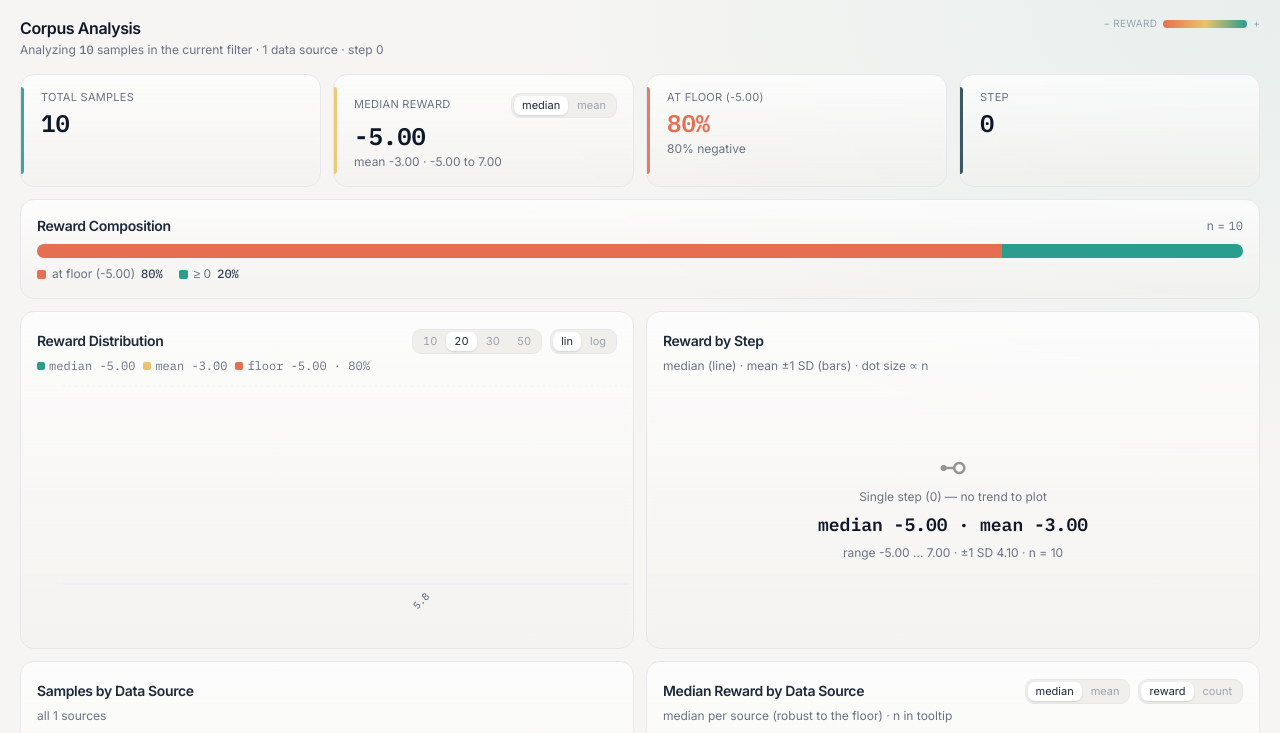
Test: AnalysisView › has independent per-surface median/mean toggles
Expected: the text "Median Reward" is shown, [354,98,450,111]
Expected: the heading "Median Reward by Data Source" is shown, [663,681,864,701]
Note: flip ONLY the KPI tile → chart stays median
Click the button titled "Mean summary" in the row of "Total Samples". click: point(592, 106)
box: [569,96,614,115]
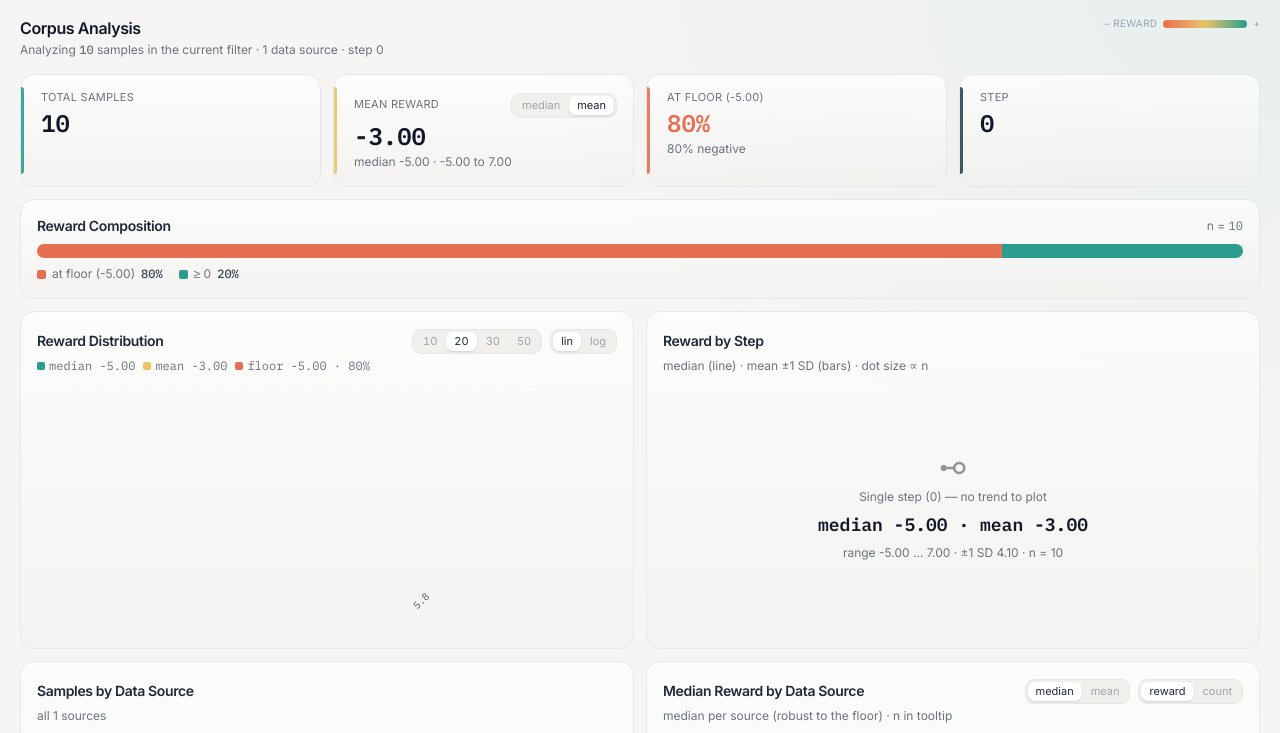
Expected: the heading "Median Reward by Data Source" is shown, [663,681,864,701]
Now the text "Mean Reward" is shown, box [354,98,439,111]
Note: flip ONLY the chart → tile keeps its own state
Click the button titled "Mean per source" in the row of "Median Reward by Data Source". click: point(1105, 691)
box: [1083,682,1127,700]
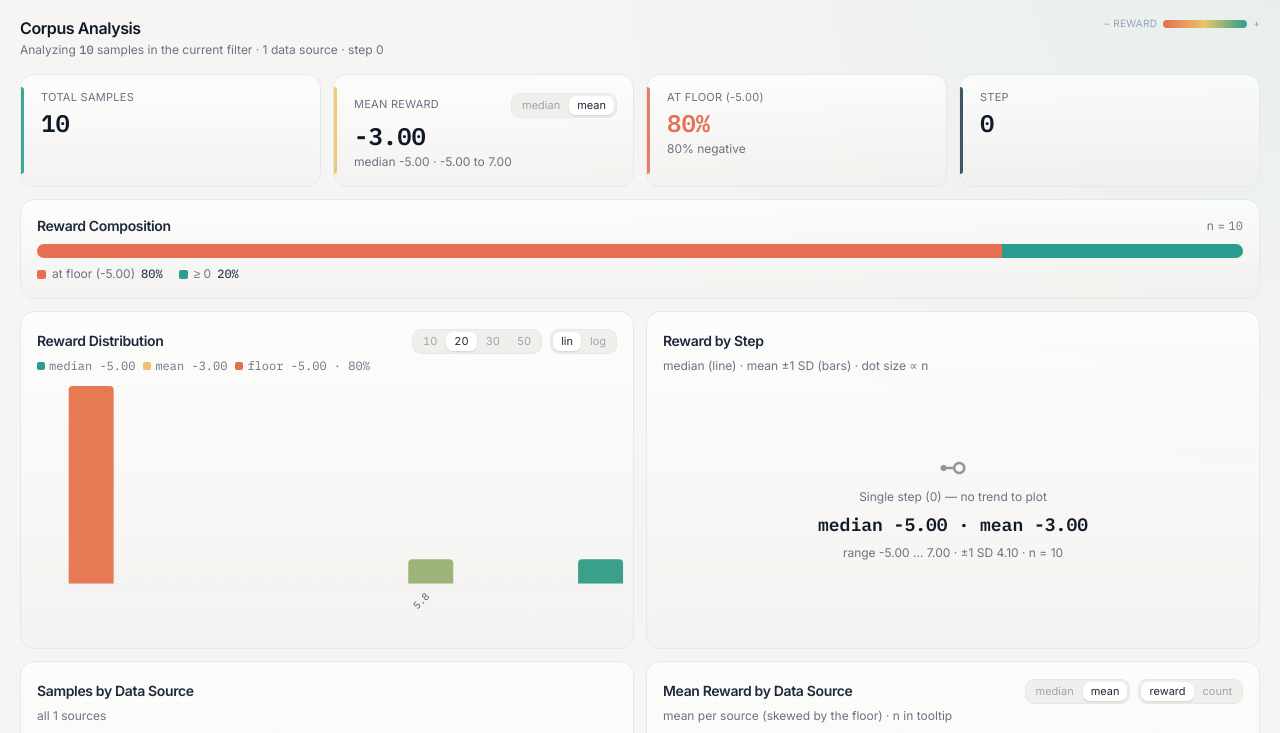
Now the text "Mean Reward" is shown, box [354,98,439,111]
Now the heading "Mean Reward by Data Source" is shown, box [663,681,852,701]
